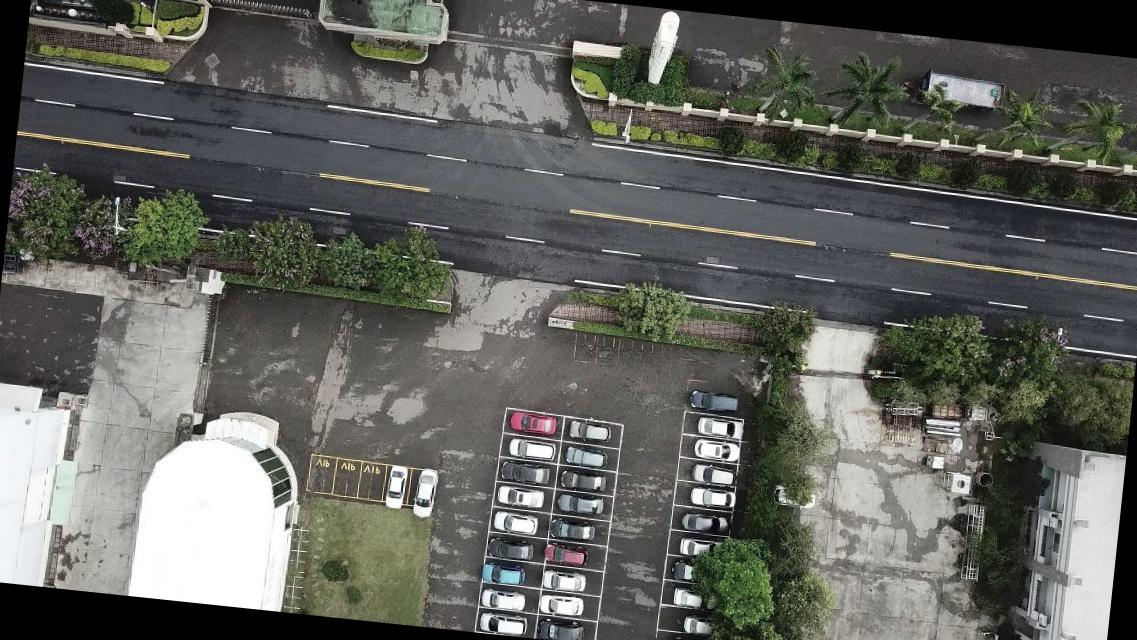vehicle: (410, 467, 440, 519), (538, 588, 586, 618), (540, 540, 591, 568), (678, 508, 728, 536), (696, 413, 746, 440), (492, 507, 540, 535), (556, 470, 608, 495), (688, 484, 736, 511), (480, 558, 526, 586), (480, 586, 526, 614), (509, 410, 558, 436), (769, 484, 819, 509), (688, 387, 740, 411), (508, 436, 556, 462), (383, 462, 409, 510), (694, 437, 742, 462), (496, 484, 542, 510), (691, 461, 736, 487), (477, 612, 530, 634), (677, 536, 725, 560), (550, 516, 598, 540), (542, 568, 588, 593), (566, 417, 611, 442), (563, 444, 608, 469), (485, 536, 536, 558), (500, 462, 552, 483), (535, 618, 586, 639), (680, 614, 718, 638), (668, 559, 700, 583), (672, 586, 706, 608), (664, 633, 711, 639)
